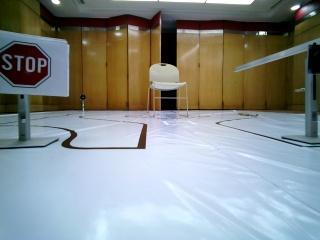stop: (2, 35, 68, 92)
